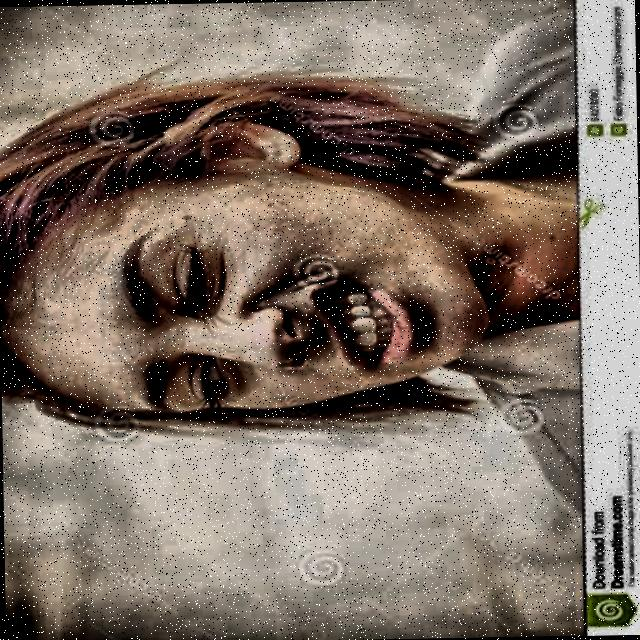disgust: (0, 80, 491, 441)
